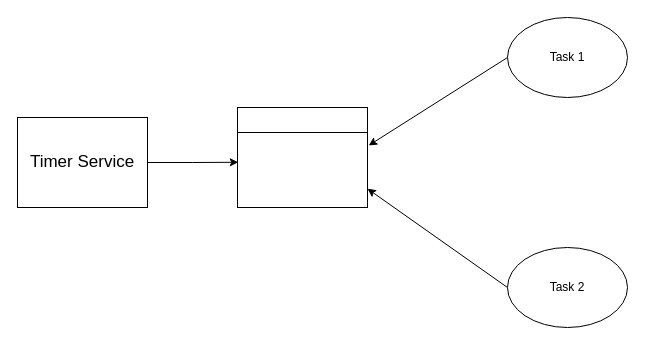
The diagram is 645 pixels wide and 345 high, and some of its shapes have lost their labels. Each missing label, with the box of its shape:
Temperature Data Humidity Data Pressure Data: (236, 132, 368, 208)
Timer Data Struct: (236, 106, 368, 132)
